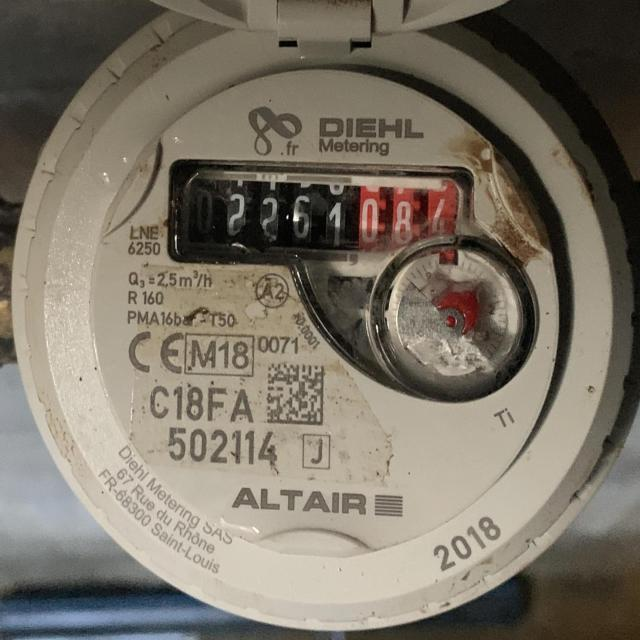gaz_meter: (89, 73, 568, 558)
indication: (173, 164, 458, 260)
